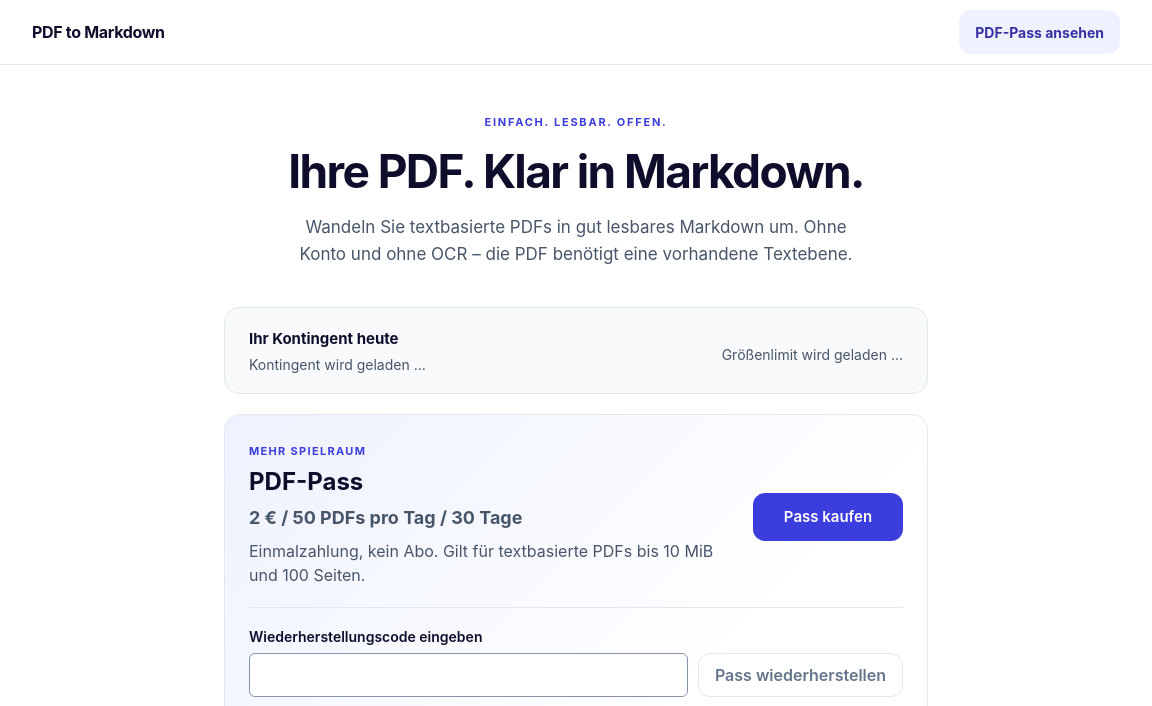
Test: checkout refuses unsafe or malformed destination javascript:alert(1)
This screenshot has width=1152, height=706.
Click the button "Pass kaufen" at {"x": 828, "y": 517}, box x1=753 y1=493 x2=903 y2=541
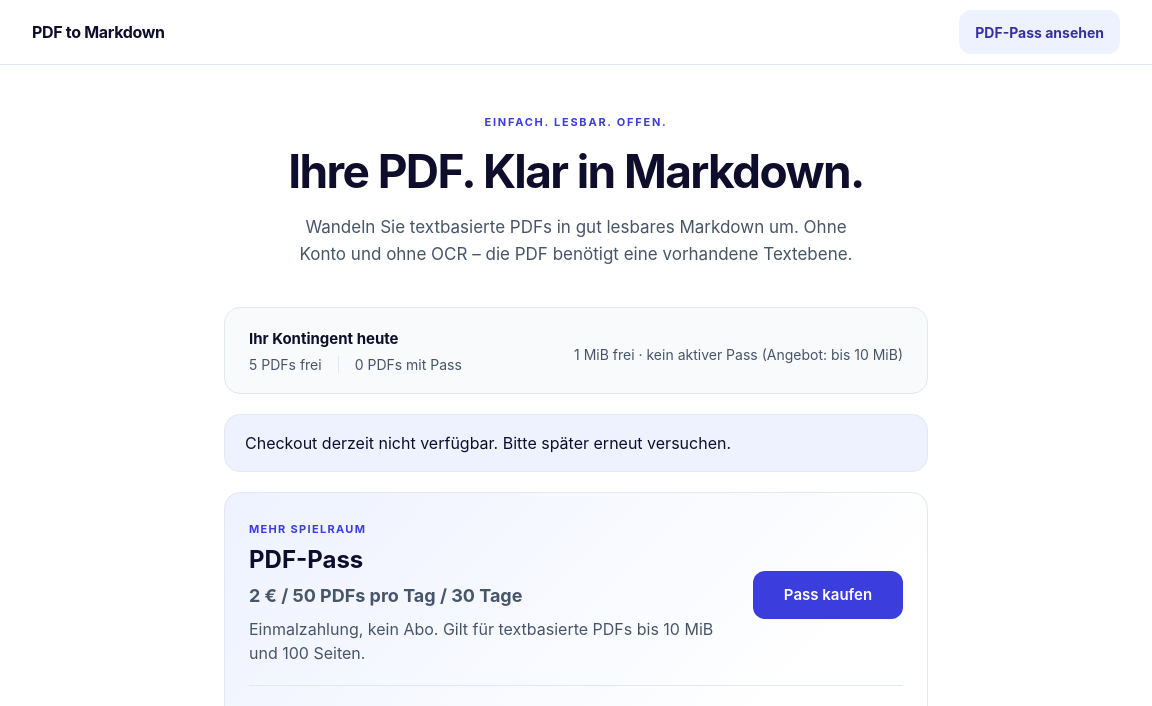
Now the text "Checkout derzeit nicht verfügbar" is shown, box x1=245 y1=433 x2=731 y2=453
